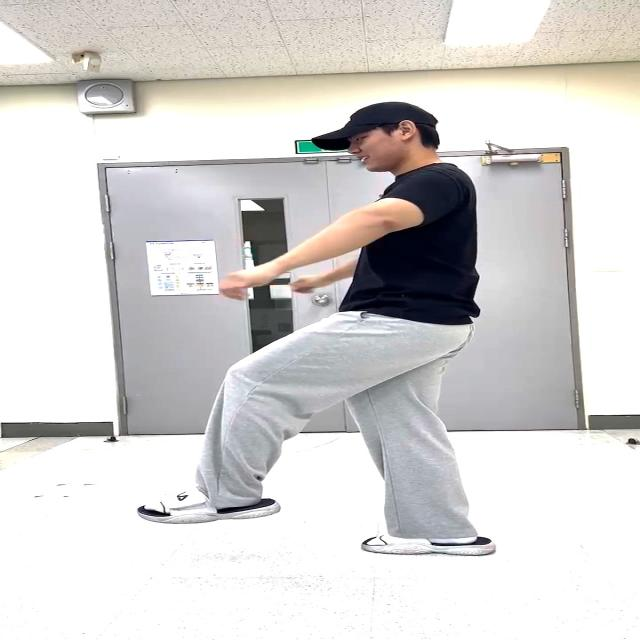leg: (147, 309, 382, 557)
